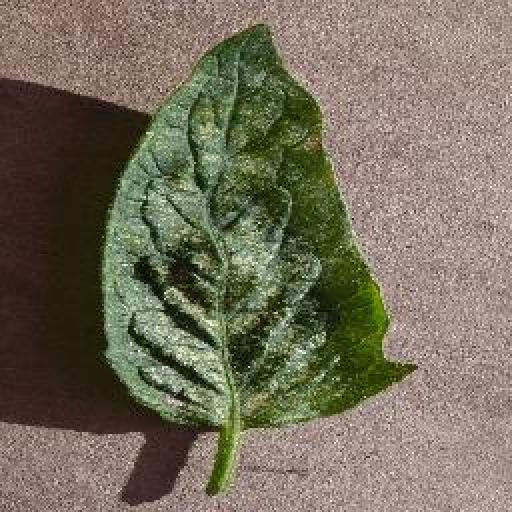disease_tomato: (107, 20, 416, 429)
